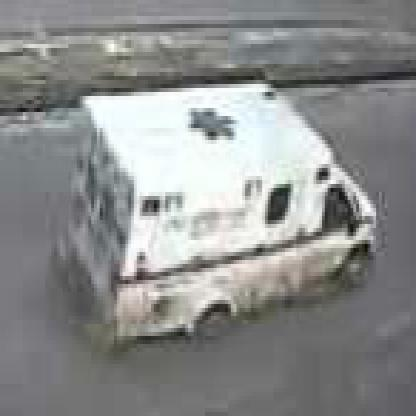truck: (64, 81, 380, 341)
